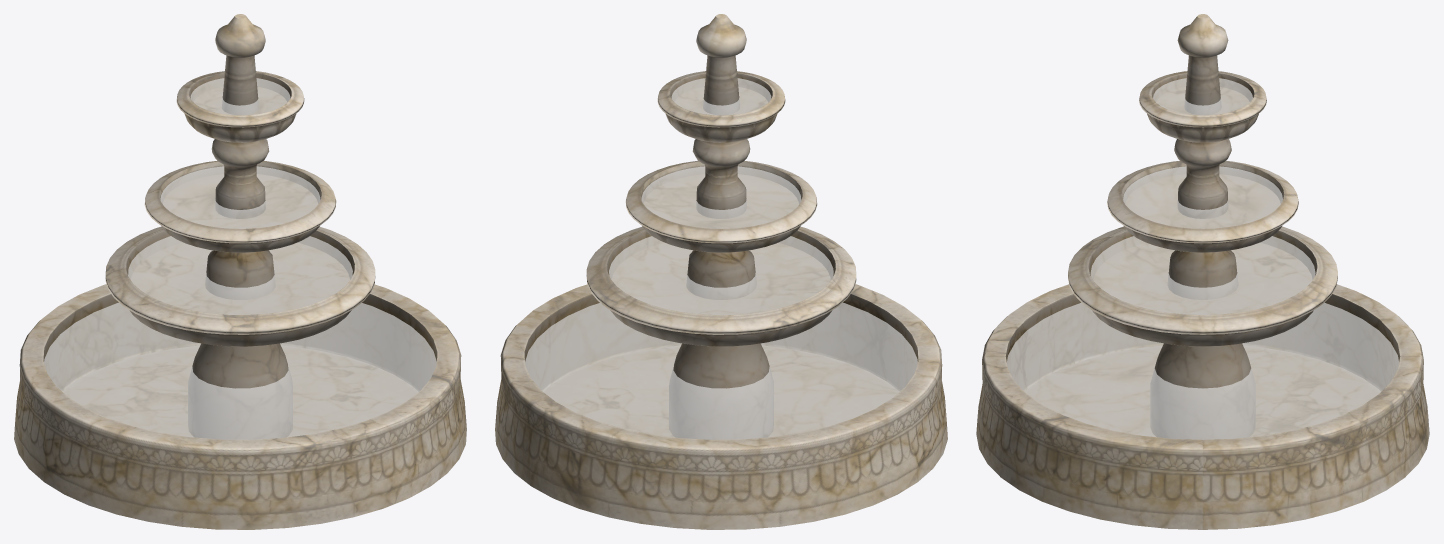
The model's file is Fountain.glb.
3 views of the same model, side by side, from view 1: azimuth 30°, elevation 25°; view 2: azimuth 150°, elevation 25°; view 3: azimuth 270°, elevation 25° (orthographic).
Parts seen in each view (by area): view 1: SM_Fountain; view 2: SM_Fountain; view 3: SM_Fountain.
Part boxes in pixels (<box>): SM_Fountain: <box>14,14,466,529</box>; SM_Fountain: <box>495,14,947,529</box>; SM_Fountain: <box>976,14,1429,529</box>.
Bounding box in the file's own units: 3 × 3.05 × 3.
Materials: 2 (1 with a texture image).
